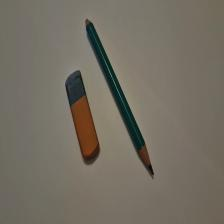eraser: (66, 70, 101, 160)
pencil: (86, 19, 155, 176)
